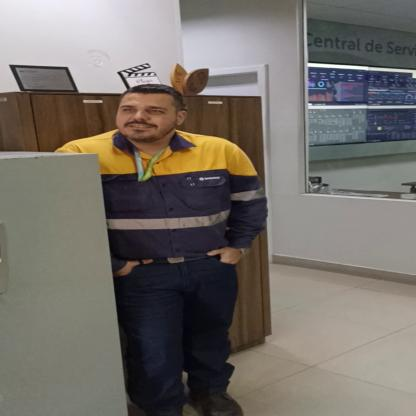Operacional: (56, 131, 265, 259)
